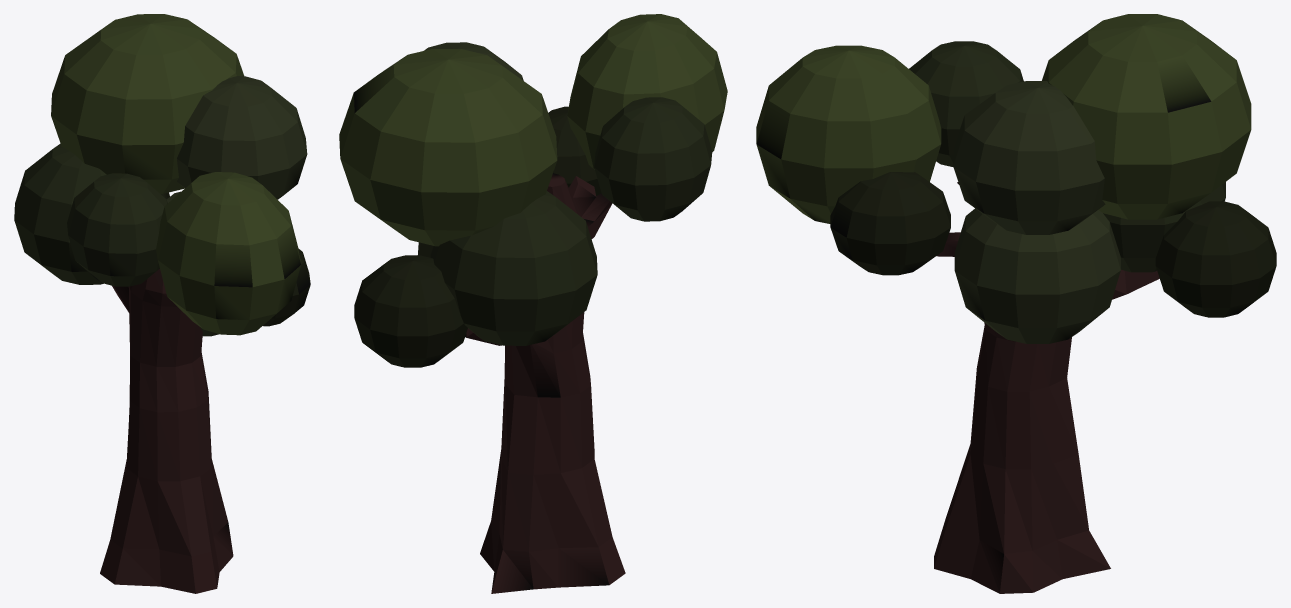
Rendered from oak_asymmetric.gltf.
3 renders of one model, left to right at view 1: azimuth 30°, elevation 25°; view 2: azimuth 150°, elevation 25°; view 3: azimuth 270°, elevation 25°, orthographic. The views are drawn at different scales.
Visible parts, largest first — view 1: OakAsymmetric; view 2: OakAsymmetric; view 3: OakAsymmetric.
Part boxes in pixels (left/top/right/bottom): OakAsymmetric: left=14, top=14, right=310, bottom=593; OakAsymmetric: left=339, top=14, right=727, bottom=593; OakAsymmetric: left=756, top=14, right=1276, bottom=593.
Bounding box in the file's own units: 1.59 × 2.95 × 2.5.
Materials: 1 (1 with a texture image).
